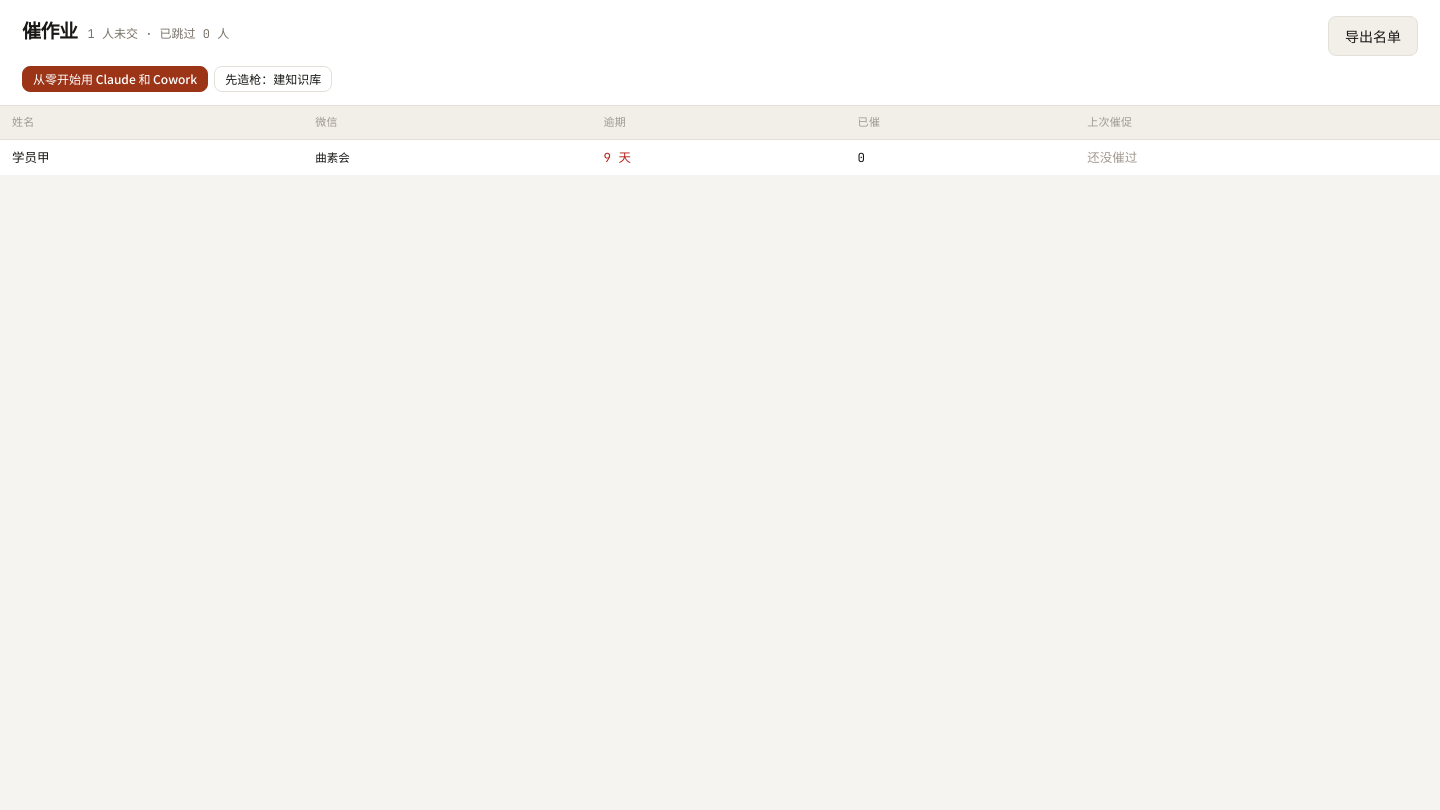
Scenario: 详情面板 › 没有催促历史时显示「还没催过这个人」
Click the row with test id "nudge-alpha@example.com". click: (720, 157)
box: [0,139,1439,175]
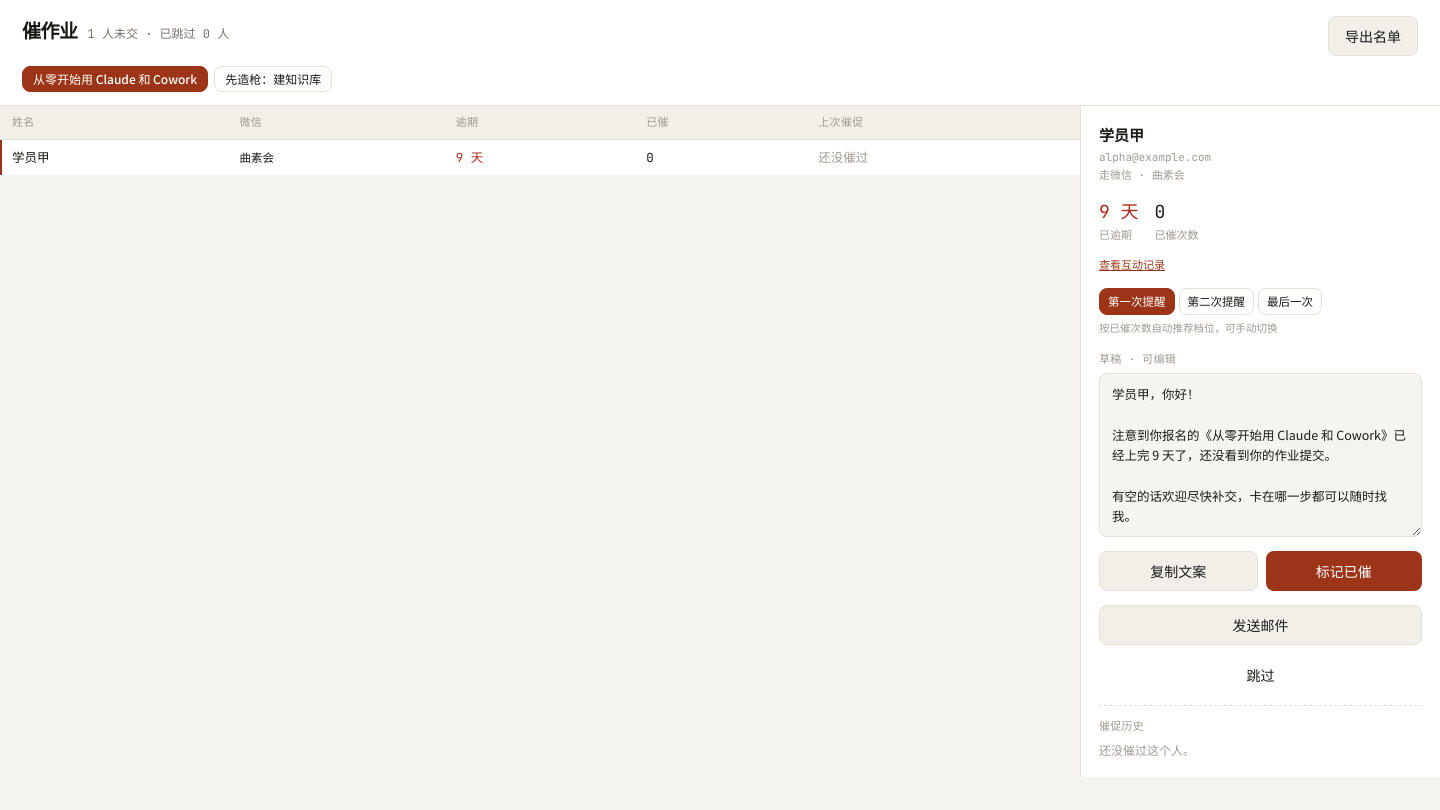
Now the text "还没催过这个人。" is shown, box [1099,741,1195,758]
